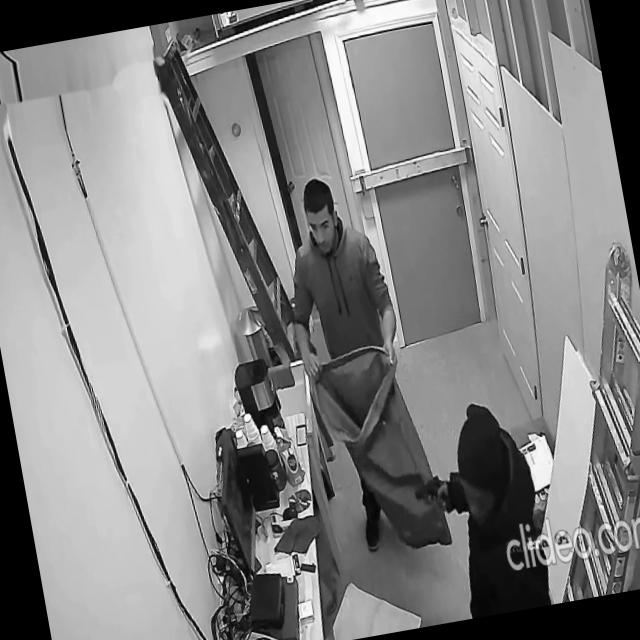gun: (412, 472, 445, 504)
person: (268, 166, 436, 560), (422, 394, 556, 620)
person with a gun: (402, 394, 556, 624)
